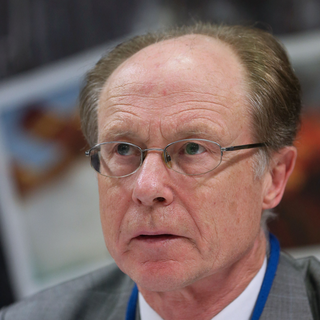eye: (167, 138, 225, 167), (102, 134, 147, 167)
